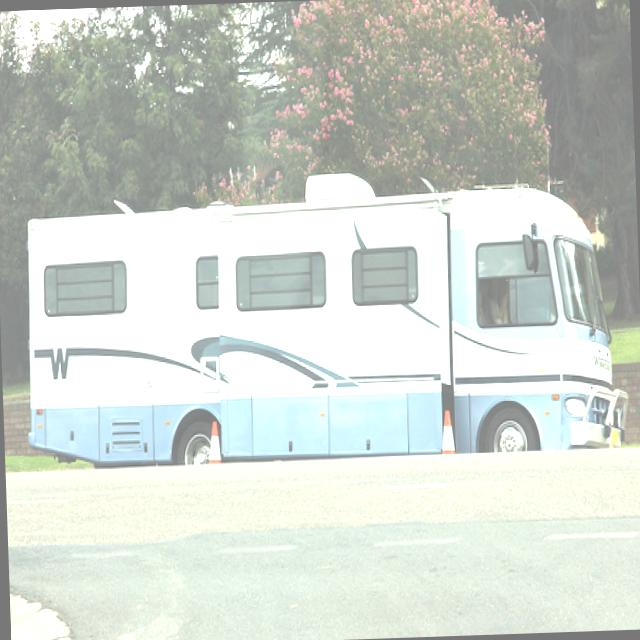Vehicle: (21, 162, 630, 472)
